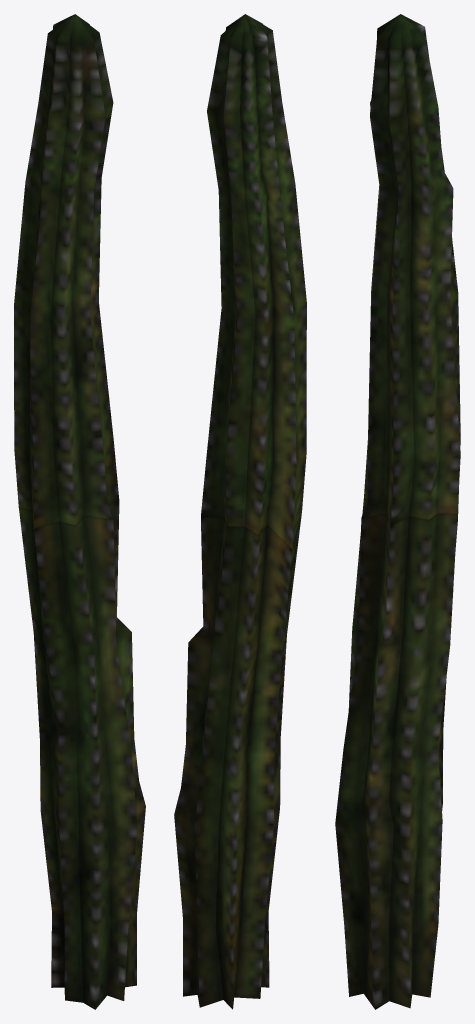
Rendered from Model_Cactus_Large.fbx.
3 renders of one model, left to right at view 1: azimuth 30°, elevation 25°; view 2: azimuth 210°, elevation 25°; view 3: azimuth 270°, elevation 25°, orthographic.
Parts seen in each view (by area): view 1: Cactus_Large; view 2: Cactus_Large; view 3: Cactus_Large.
Part boxes in pixels (x1=…): Cactus_Large: x1=14, y1=14, x2=145, y2=1009; Cactus_Large: x1=174, y1=14, x2=306, y2=1009; Cactus_Large: x1=335, y1=14, x2=460, y2=1009.
Size of the model in its own units: 22.22 by 201 by 23.44.
